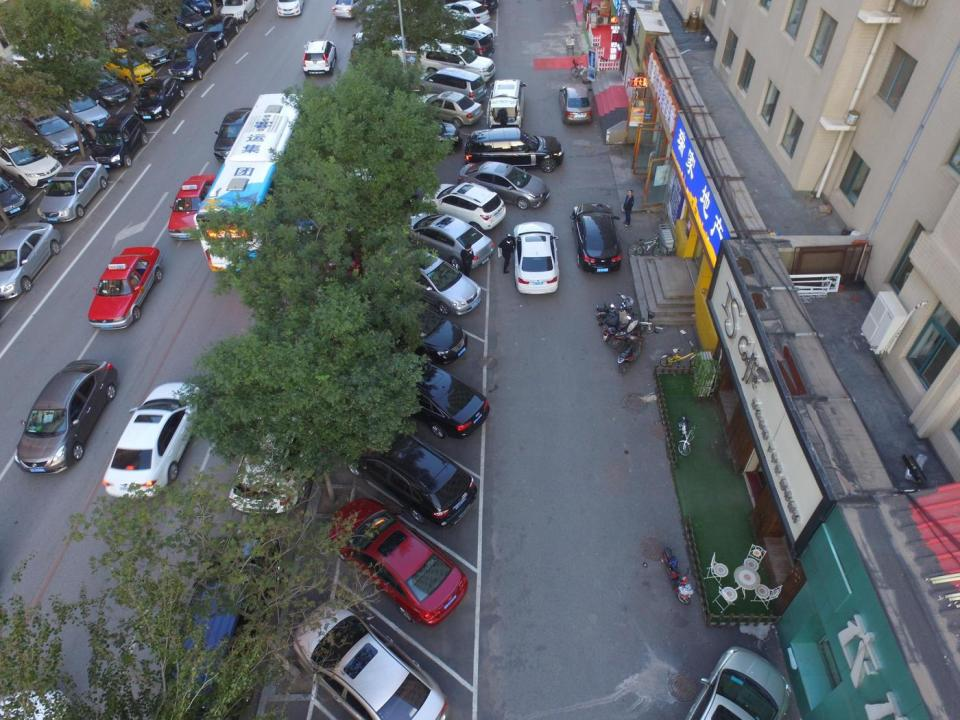bus: (192, 91, 313, 278)
car: (174, 534, 280, 718), (290, 598, 447, 720), (326, 497, 468, 628), (338, 415, 477, 528), (227, 372, 324, 514), (10, 358, 120, 473), (101, 380, 202, 499), (359, 348, 491, 437), (346, 287, 468, 364), (680, 643, 793, 720), (372, 241, 482, 315), (87, 247, 163, 331), (397, 208, 494, 272), (35, 158, 110, 224), (0, 222, 62, 300), (455, 161, 551, 209), (497, 221, 559, 295), (420, 179, 506, 232), (11, 98, 88, 157), (567, 201, 622, 274), (0, 131, 63, 192), (168, 173, 219, 240), (90, 113, 148, 169), (46, 86, 112, 133), (385, 114, 462, 154), (420, 43, 497, 83), (414, 67, 488, 102), (413, 91, 484, 126), (432, 11, 499, 48), (74, 66, 132, 108), (316, 240, 365, 288), (133, 74, 184, 120), (115, 25, 172, 66), (214, 108, 254, 161), (433, 26, 494, 59), (487, 79, 527, 129), (100, 48, 155, 84), (297, 36, 341, 76), (134, 16, 186, 48), (156, 0, 206, 31), (198, 14, 240, 48), (558, 86, 594, 125), (443, 0, 495, 26), (349, 29, 381, 66), (220, 0, 259, 27), (360, 1, 390, 31)
van: (464, 128, 564, 172), (169, 33, 220, 81)
